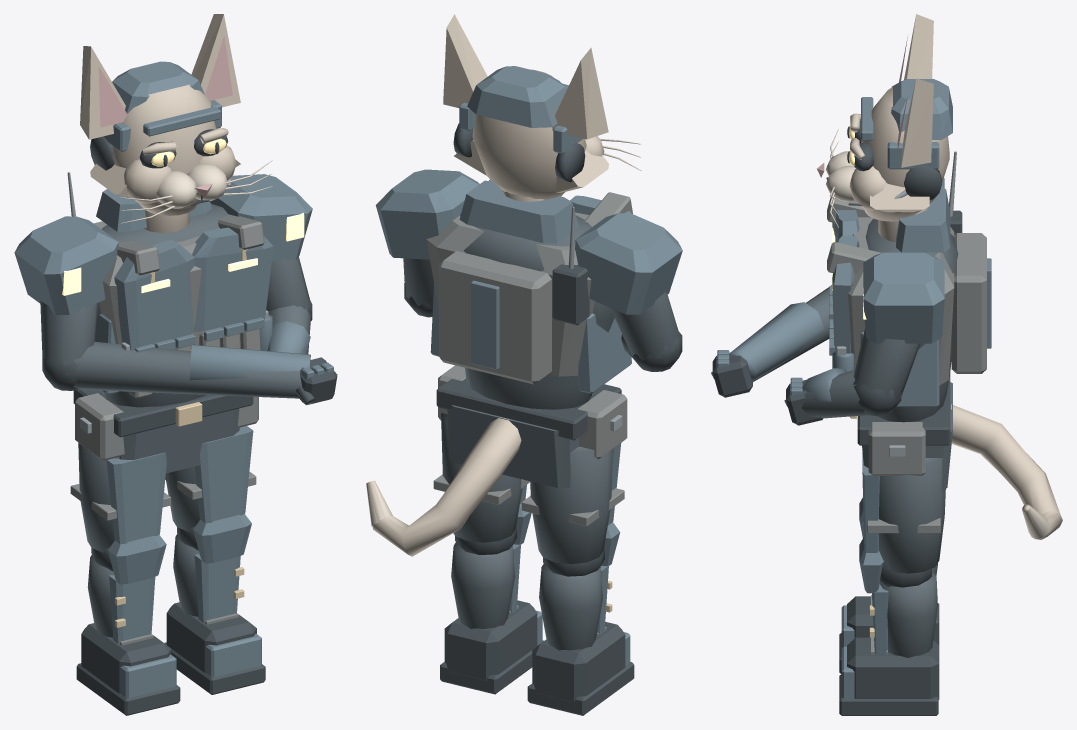
The model's file is cat_assault.glb.
3 renders of one model, left to right at view 1: azimuth 30°, elevation 25°; view 2: azimuth 150°, elevation 25°; view 3: azimuth 270°, elevation 25°, orthographic. The views are drawn at different scales.
Visible parts, largest first — view 1: forearm_L_63, shoulder_L_64, chest_plate_16, chest_plate_3, head_86, thigh_plate_33, shoulder_R_75, thigh_plate_48, pelvis_31, forearm_guard_L_67, boot_39, boot_54 (+40 smaller); view 2: backpack_123, shoulder_L_64, tail_121, thigh_32, torso_1, shoulder_R_75, head_86, pelvis_31, boot_39, boot_54, neck_guard_85, helmet_crown_114 (+24 smaller); view 3: shoulder_R_75, thigh_47, tail_121, backpack_123, boot_54, forearm_guard_L_67, calf_52, hip_pouch_27, upper_arm_R_73, head_86, carrier_2, neck_guard_85 (+29 smaller).
Part boxes in pixels (x1,y1,x2,y2): forearm_L_63: [65, 341, 302, 398]; shoulder_L_64: [14, 216, 118, 314]; chest_plate_16: [192, 227, 273, 331]; chest_plate_3: [114, 240, 194, 350]; head_86: [112, 84, 216, 215]; thigh_plate_33: [106, 452, 166, 544]; shoulder_R_75: [210, 174, 312, 260]; thigh_plate_48: [194, 426, 253, 523]; pelvis_31: [119, 408, 239, 473]; forearm_guard_L_67: [190, 344, 310, 380]; boot_39: [81, 623, 171, 693]; boot_54: [166, 602, 256, 672]; backpack_123: [439, 251, 551, 384]; shoulder_L_64: [575, 213, 682, 314]; tail_121: [368, 417, 521, 556]; thigh_32: [530, 446, 612, 564]; torso_1: [459, 212, 614, 409]; shoulder_R_75: [375, 169, 479, 259]; head_86: [472, 69, 586, 199]; pelvis_31: [447, 405, 578, 487]; boot_39: [532, 622, 625, 702]; boot_54: [444, 600, 537, 680]; neck_guard_85: [459, 180, 578, 243]; helmet_crown_114: [467, 66, 566, 127]; shoulder_R_75: [863, 252, 944, 343]; thigh_47: [878, 458, 945, 573]; tail_121: [951, 404, 1062, 539]; backpack_123: [951, 233, 986, 373]; boot_54: [847, 637, 939, 699]; forearm_guard_L_67: [729, 302, 823, 381]; calf_52: [879, 570, 937, 657]; hip_pouch_27: [868, 422, 925, 475]; upper_arm_R_73: [853, 328, 920, 398]; head_86: [861, 87, 949, 221]; carrier_2: [847, 217, 954, 385]; neck_guard_85: [896, 186, 950, 252].
Size of the model in its own units: 1.13 by 2.59 by 1.29.
